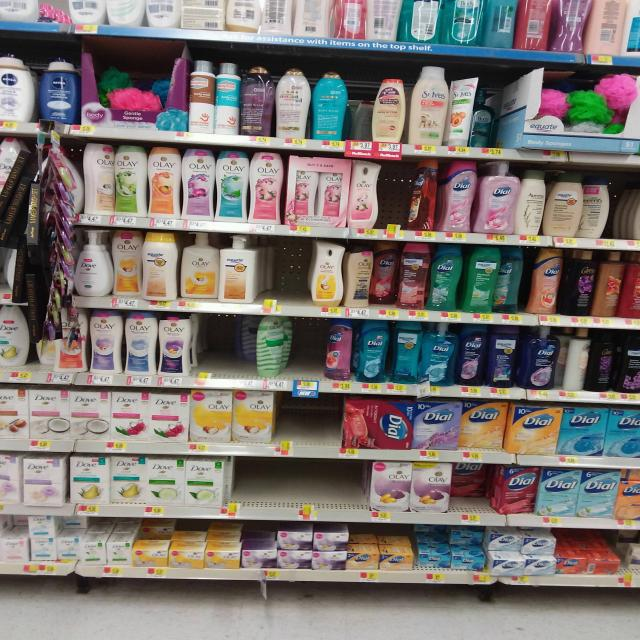void: (262, 238, 304, 316), (316, 460, 368, 522), (226, 457, 271, 519), (286, 317, 321, 391), (191, 319, 226, 388), (273, 459, 313, 519), (276, 394, 311, 456), (229, 316, 257, 387), (312, 394, 338, 460)
